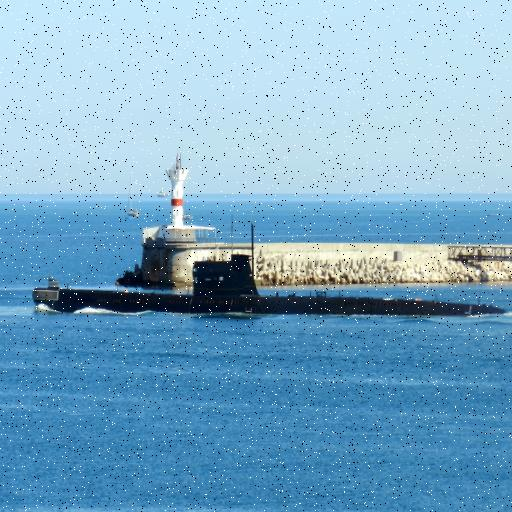submarine: (13, 254, 504, 315)
